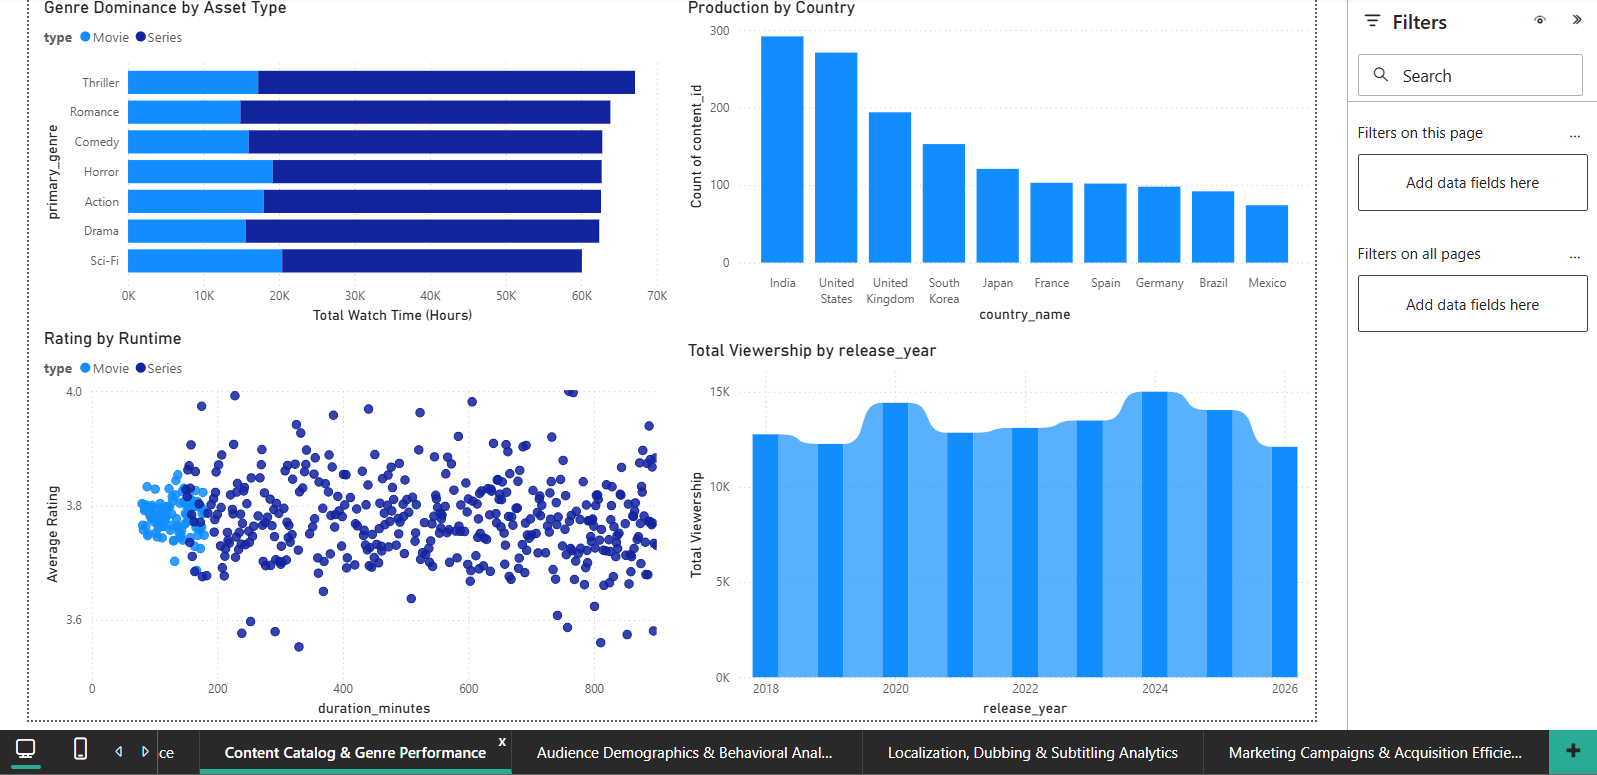

The page's visual inventory and layout, read from the dashboard file:
{"tool":"powerbi","page":{"name":"Content Catalog & Genre Performance","canvas":[1280,720],"ordinal":1},"visuals":[{"type":"barChart","title":"Genre Dominance by Asset Type","fields":{"Category":["Dim_Content.primary_genre"],"Y":["Dim_Content.Total Watch Time (Hours)"],"Series":["Dim_Content.type"]},"box":[9.6,0,629.8,329.3],"z":0},{"type":"scatterChart","title":"Rating by Runtime","fields":{"X":["Dim_Content.duration_minutes"],"Y":["Dim_Content.Average Rating"],"Series":["Dim_Content.type"]},"box":[9.6,329.3,629.8,391.1],"z":1000},{"type":"clusteredColumnChart","title":"Production by Country","fields":{"Category":["Dim_Geography.country_name"],"Y":["Count(Dim_Content.content_id)"]},"box":[650.4,0,629.8,329.3],"z":2000},{"type":"ribbonChart","fields":{"Category":["Dim_Content.release_year"],"Y":["Dim_Content.Total Viewership"]},"box":[650.4,340.3,629.8,380.1],"z":3000}]}

Visuals, with their boxes on the page's 1280x720 design canvas (x1, y1, x2, y2). These are canvas units, not pixel positions in the 1597x775 screenshot, which may show the page scaled, cropped or inside an application window:
"Genre Dominance by Asset Type" barChart: rect(10, 0, 639, 329)
"Rating by Runtime" scatterChart: rect(10, 329, 639, 720)
"Production by Country" clusteredColumnChart: rect(650, 0, 1280, 329)
ribbonChart - Dim_Content.release_year x Dim_Content.Total Viewership: rect(650, 340, 1280, 720)
